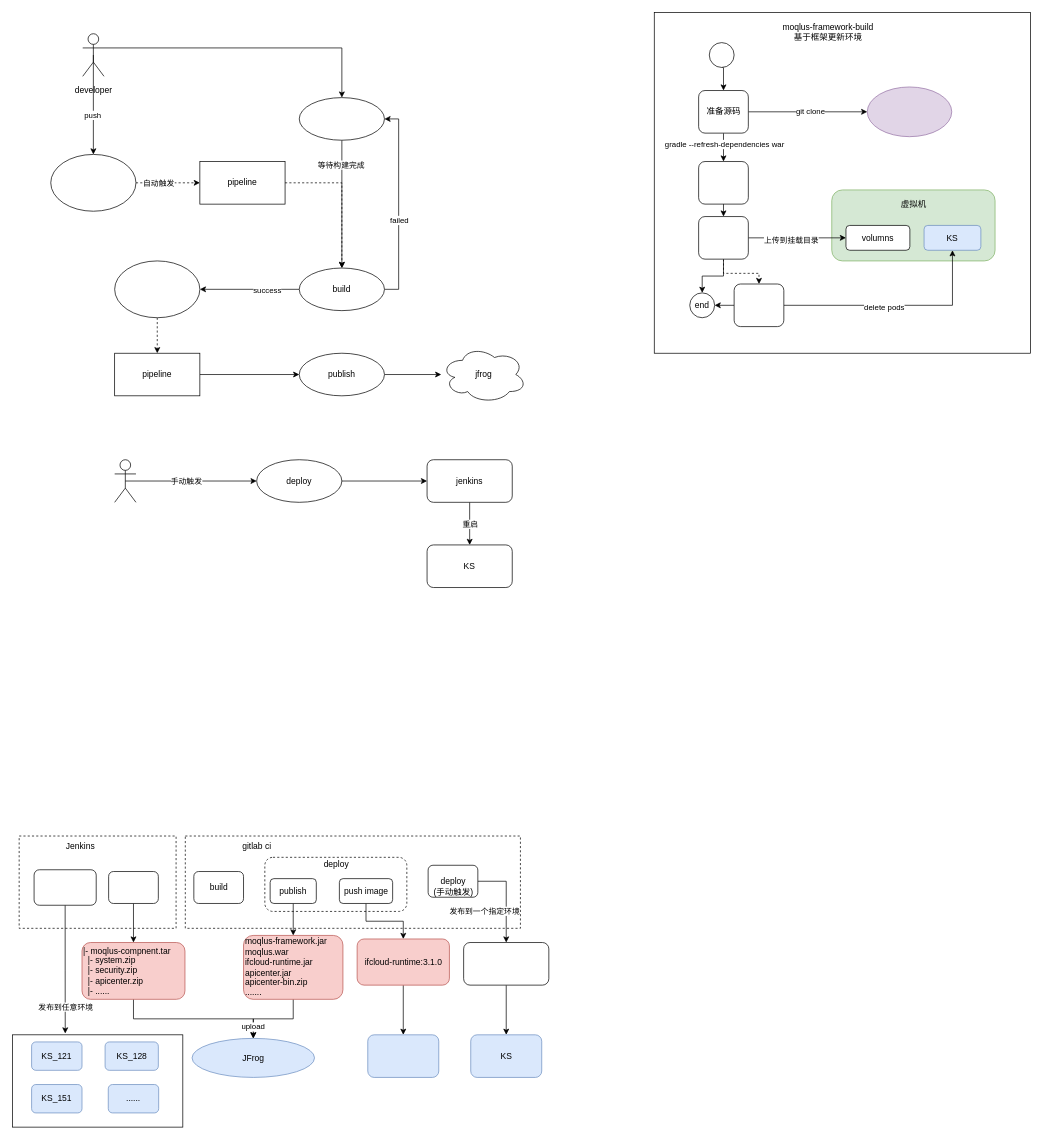
The diagram is 1043 pixels wide and 1140 high, and some of its shapes have lost their labels. The box of each missing label's shape, as (x1, y1, x2, y2) in pixels:
Actor: (114, 459, 136, 502)
addons: (108, 871, 158, 903)
dockerhub: (367, 1034, 439, 1077)
feature branch: (50, 154, 136, 211)
gitlab: (867, 86, 952, 137)
ifcloud-runtime-build: (33, 869, 96, 905)
master branch: (114, 260, 200, 318)
merge request: (299, 97, 384, 140)
start: (709, 42, 734, 67)
执行 jenkins.sh脚本: (463, 942, 549, 985)
生成moqlus.war: (698, 161, 748, 204)
部署moqlus.war: (698, 216, 748, 259)
重启服务: (733, 283, 784, 327)
